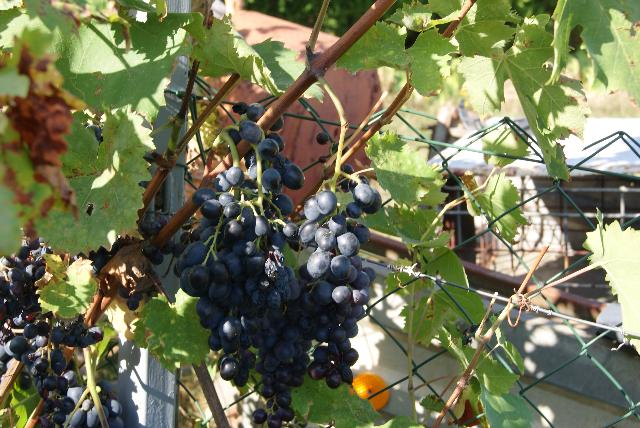grapes: (180, 119, 306, 426), (0, 242, 104, 428), (299, 180, 381, 389)
